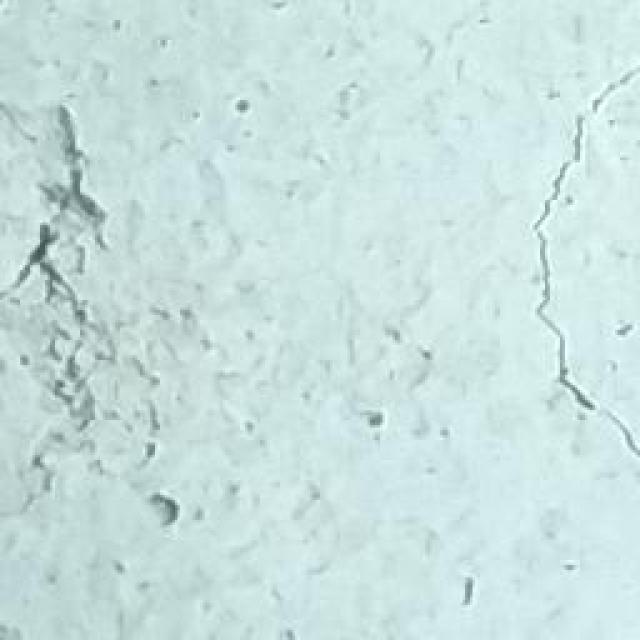Annular: (539, 64, 640, 514)
Rippled: (0, 77, 199, 546)
